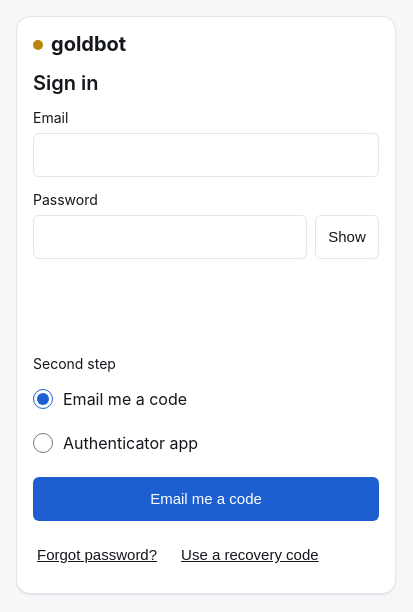
Login with an emailed code › B: after asking, shows the masked address, the expiry in local time with UTC beside, one numeric field and the resend countdown
The image size is (413, 612).
Expected: the radio button labelled "Email me a code" is shown, [33, 377, 53, 421]
Step 1. Type "owner@example.com" into the field labelled "Email" → (206,155), box [33, 133, 379, 177]
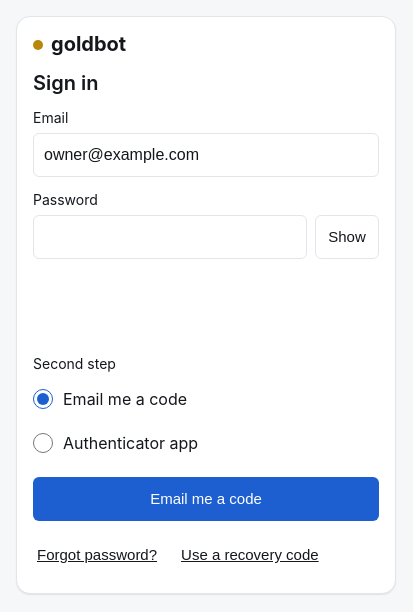
Step 2. Type "owner password 123" into the password field labelled "Password" → (170,237), box [33, 215, 307, 259]
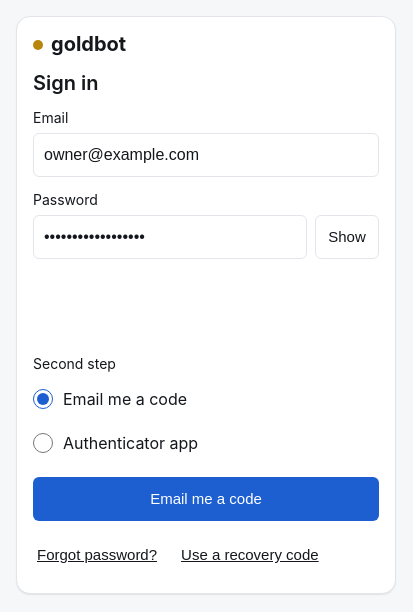
Step 3. Click the button "Email me a code" → (206,499), box [33, 477, 379, 521]
Wait 13000 ms
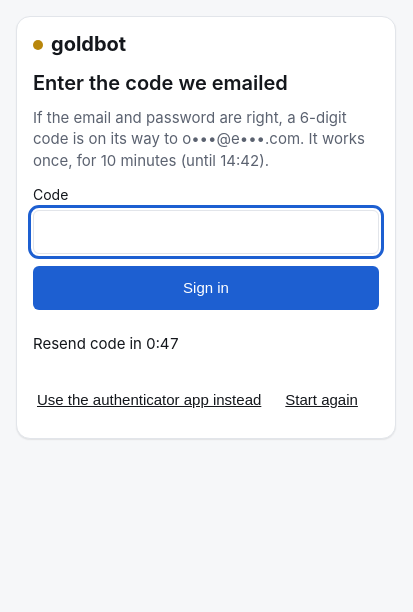
Result: the heading "Enter the code we emailed" is shown at [33, 71, 288, 95]
Result: the text "If the email and password are right, a 6-digit code is on its way to" shows "If the email and password are right, a 6-digit code is on its way to o•••@e•••.com. It works once, for 10 minutes (until 14:42)." at [33, 107, 379, 172]
Result: the button "Sign in" is shown at [33, 266, 379, 310]
